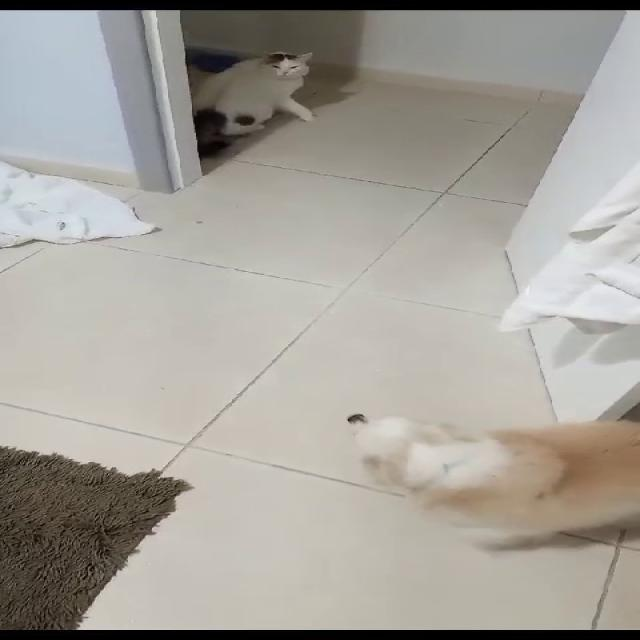Simba: (198, 37, 322, 170)
Theo: (322, 381, 639, 556)
